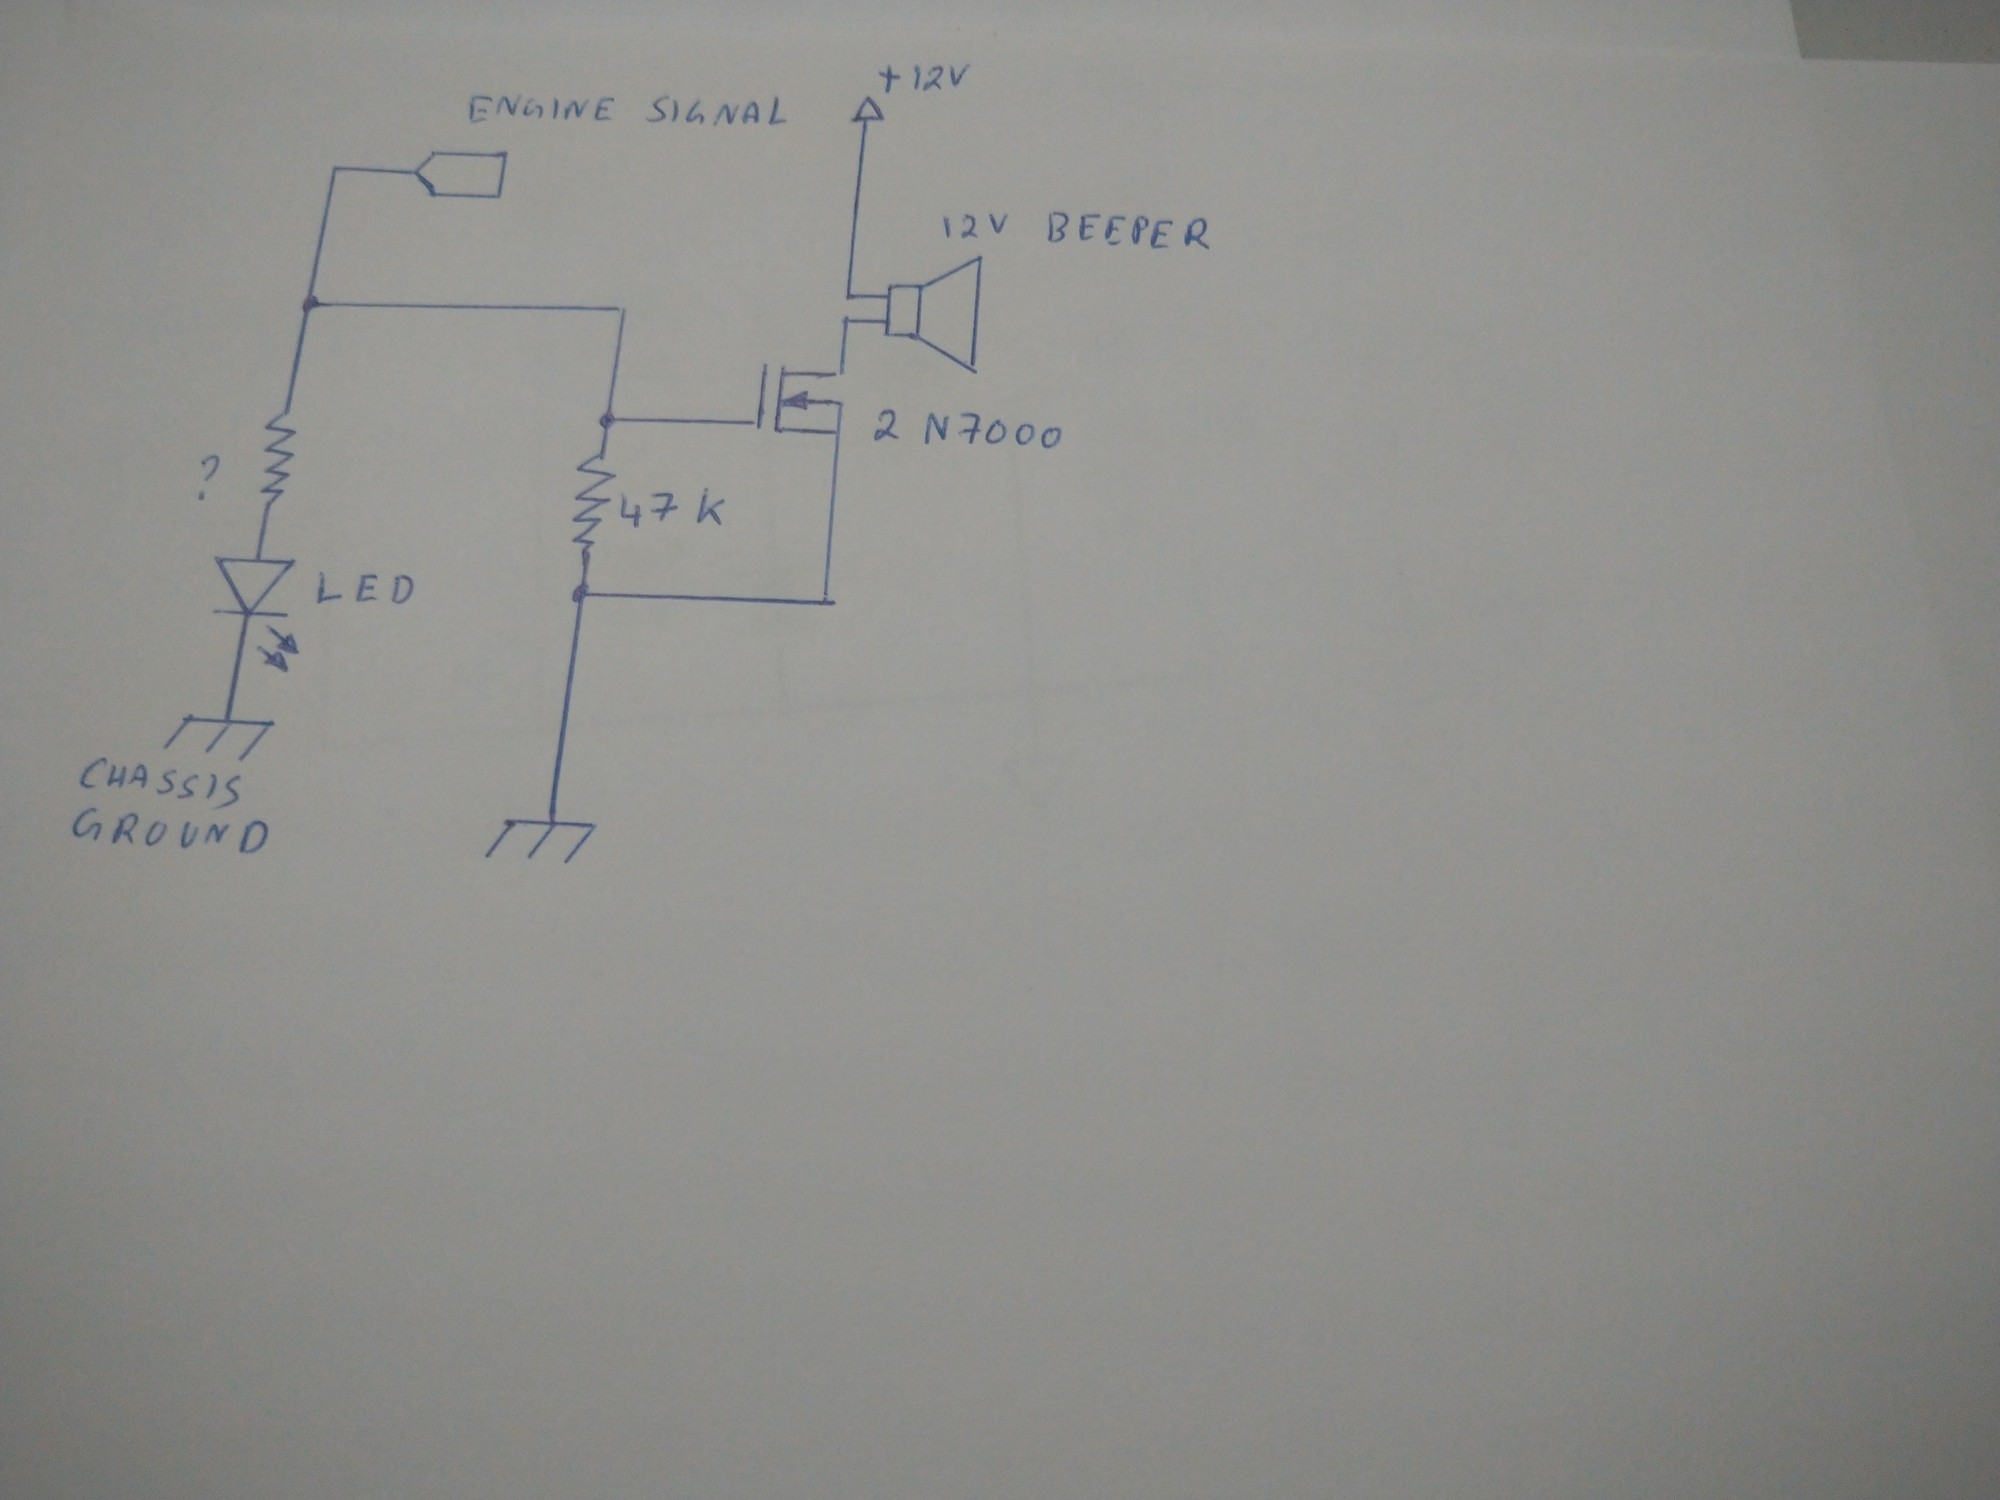diode.light_emitting: (206, 553, 302, 678)
gnd: (480, 816, 597, 867), (161, 711, 276, 761)
junction: (298, 290, 328, 323), (813, 585, 841, 613), (567, 581, 594, 610), (611, 299, 635, 323), (597, 408, 619, 433), (324, 159, 346, 183), (838, 310, 858, 332), (838, 284, 858, 306)
resistor: (570, 449, 617, 556), (258, 407, 299, 511)
speaker: (879, 255, 983, 375)
terminal: (413, 147, 512, 203), (850, 95, 885, 129)
text: (465, 90, 794, 131), (71, 804, 271, 859), (868, 407, 1066, 452), (77, 756, 243, 810), (1046, 206, 1216, 254), (617, 485, 729, 534), (310, 566, 420, 607), (880, 58, 973, 99), (939, 210, 1013, 243), (191, 451, 222, 507)
transistor: (753, 359, 850, 443)
